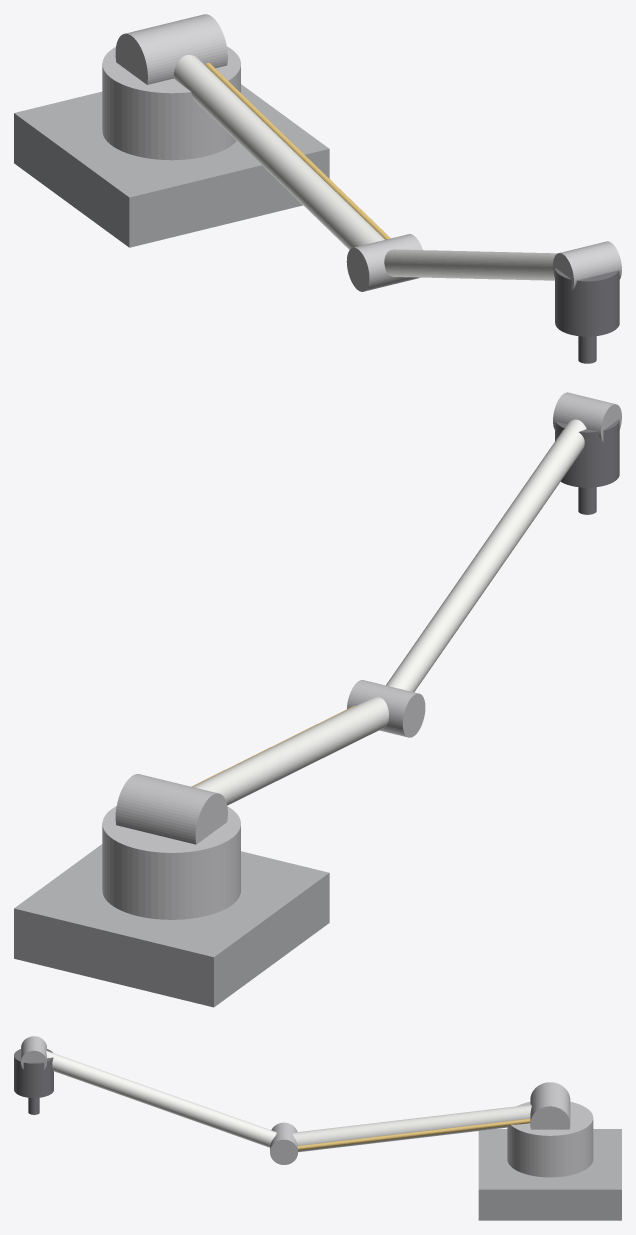
Rendered from rover30_robotic_arm_s_deployed.glb.
3 renders of one model, top to bottom at view 1: azimuth 30°, elevation 25°; view 2: azimuth 150°, elevation 25°; view 3: azimuth 270°, elevation 25°, orthographic. The views are drawn at different scales.
Parts seen in each view (by area): view 1: base, arm_turret, arm_link1, arm_link2, arm_tool, arm_elbow, arm_wrist, arm_cable; view 2: base, arm_turret, arm_link2, arm_link1, arm_tool, arm_elbow, arm_wrist; view 3: base, arm_turret, arm_link2, arm_link1, arm_tool, arm_cable, arm_elbow, arm_wrist.
Boxes of the visible parts, left/top/right/bottom form: base: left=14, top=84, right=329, bottom=247; arm_turret: left=102, top=14, right=240, bottom=160; arm_link1: left=173, top=55, right=384, bottom=249; arm_link2: left=384, top=249, right=557, bottom=280; arm_tool: left=555, top=268, right=619, bottom=363; arm_elbow: left=346, top=234, right=422, bottom=291; arm_wrist: left=553, top=241, right=621, bottom=290; arm_cable: left=205, top=63, right=390, bottom=239; base: left=14, top=844, right=329, bottom=1007; arm_turret: left=102, top=774, right=240, bottom=919; arm_link2: left=386, top=419, right=586, bottom=692; arm_link1: left=193, top=697, right=388, bottom=805; arm_tool: left=555, top=419, right=619, bottom=514; arm_elbow: left=347, top=680, right=425, bottom=737; arm_wrist: left=553, top=392, right=621, bottom=441; base: left=478, top=1129, right=621, bottom=1220; arm_turret: left=507, top=1082, right=593, bottom=1177; arm_link2: left=46, top=1050, right=276, bottom=1147; arm_link1: left=292, top=1104, right=531, bottom=1152; arm_tool: left=14, top=1049, right=53, bottom=1114; arm_cable: left=297, top=1118, right=530, bottom=1150; arm_elbow: left=270, top=1122, right=297, bottom=1164; arm_wrist: left=21, top=1036, right=46, bottom=1069.
Bounding box in the file's own units: 0.5 × 0.5655 × 2.12.
